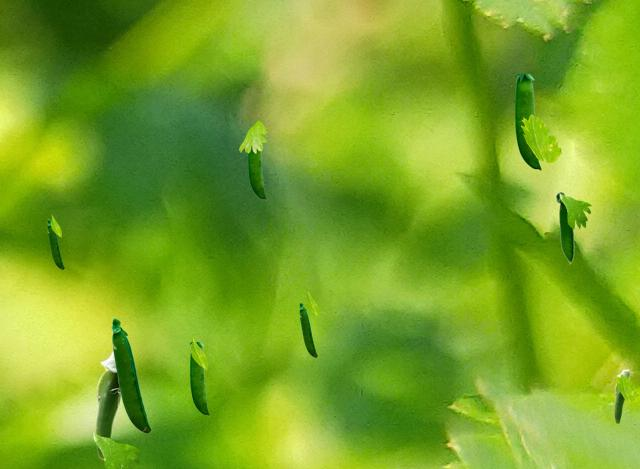pea: (111, 317, 150, 432), (95, 351, 121, 459), (515, 74, 540, 170), (555, 191, 573, 264), (190, 342, 208, 415), (299, 302, 316, 356), (248, 150, 265, 199), (614, 369, 629, 423), (47, 219, 63, 268)
